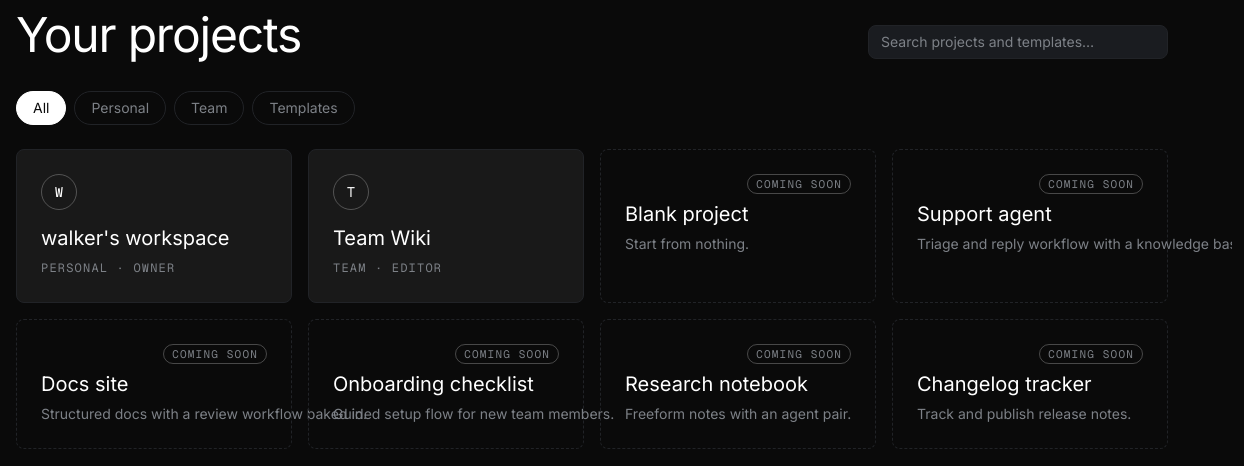
Test: the projects home › filters projects by kind
The image size is (1244, 466).
Expected: the button "T Team Wiki team · editor" is shown, [308,149,584,303]
Click the button "Team" at (209, 108), box [174,91,244,125]
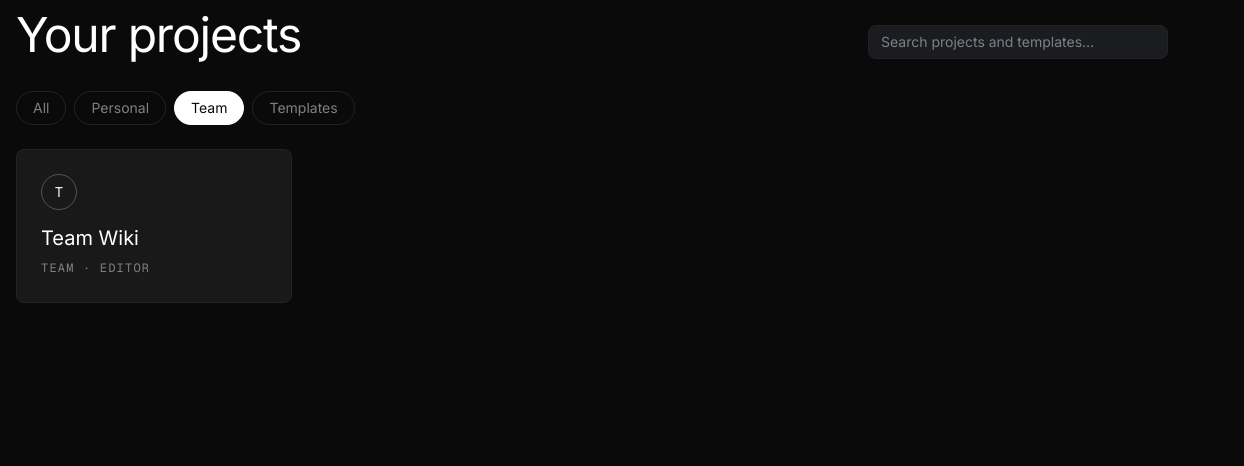
Expected: the button "T Team Wiki team · editor" is shown, [16,149,292,303]
Now the button "walker's workspace" is gone
